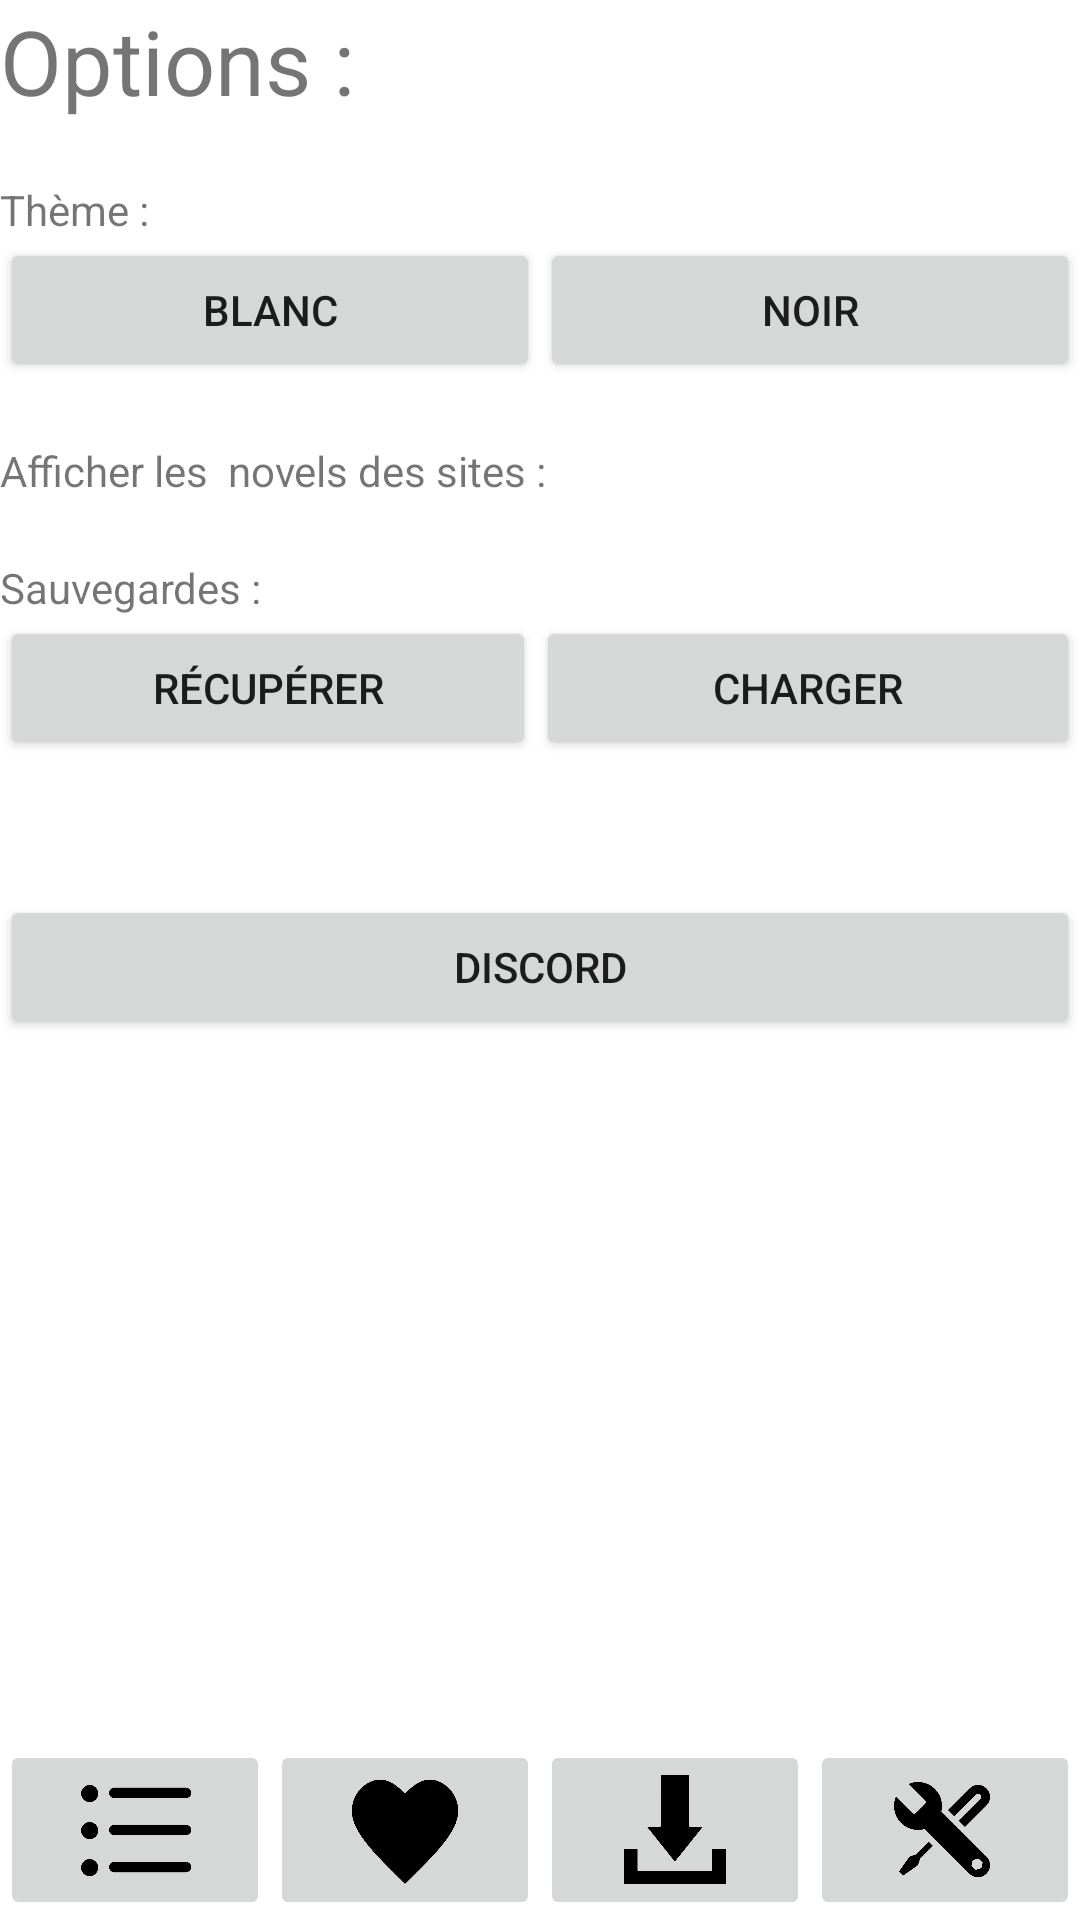

Where icons sit on this 1080 x 1920 app screen, as (x1, y1, x2, y2):
Bouton favori: (282, 1758, 528, 1902)
Bouton liste novel: (12, 1758, 258, 1902)
Bouton options: (822, 1758, 1068, 1902)
Bouton telechargement: (552, 1758, 798, 1902)
